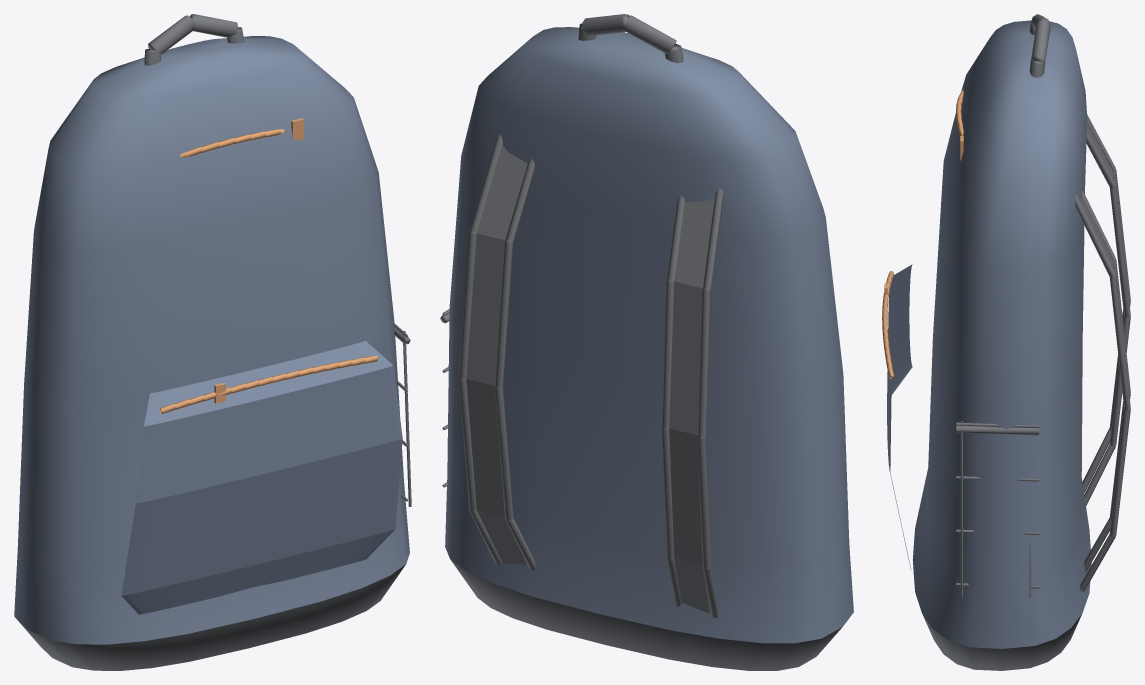
File: campus-backpack-v1.glb
3 views of the same model, side by side, from view 1: azimuth 30°, elevation 25°; view 2: azimuth 150°, elevation 25°; view 3: azimuth 270°, elevation 25° (orthographic). The views are drawn at different scales.
Parts seen in each view (by area): view 1: oak-desk-chair; view 2: oak-desk-chair; view 3: oak-desk-chair.
Part boxes in pixels (bbox=[...]): oak-desk-chair: bbox=[14, 14, 411, 670]; oak-desk-chair: bbox=[440, 14, 853, 670]; oak-desk-chair: bbox=[882, 14, 1130, 670].
Bounding box in the file's own units: 0.3017 × 0.46 × 0.18.
